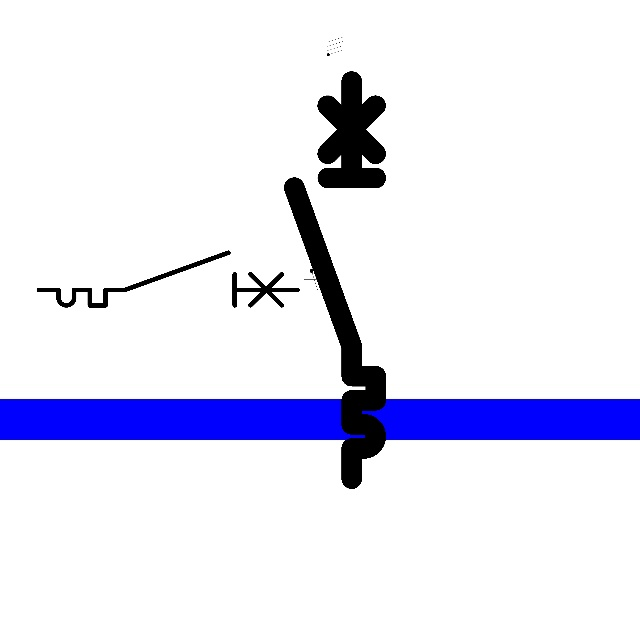interruptor_termomagnetico: (284, 71, 386, 489), (32, 246, 304, 312)
